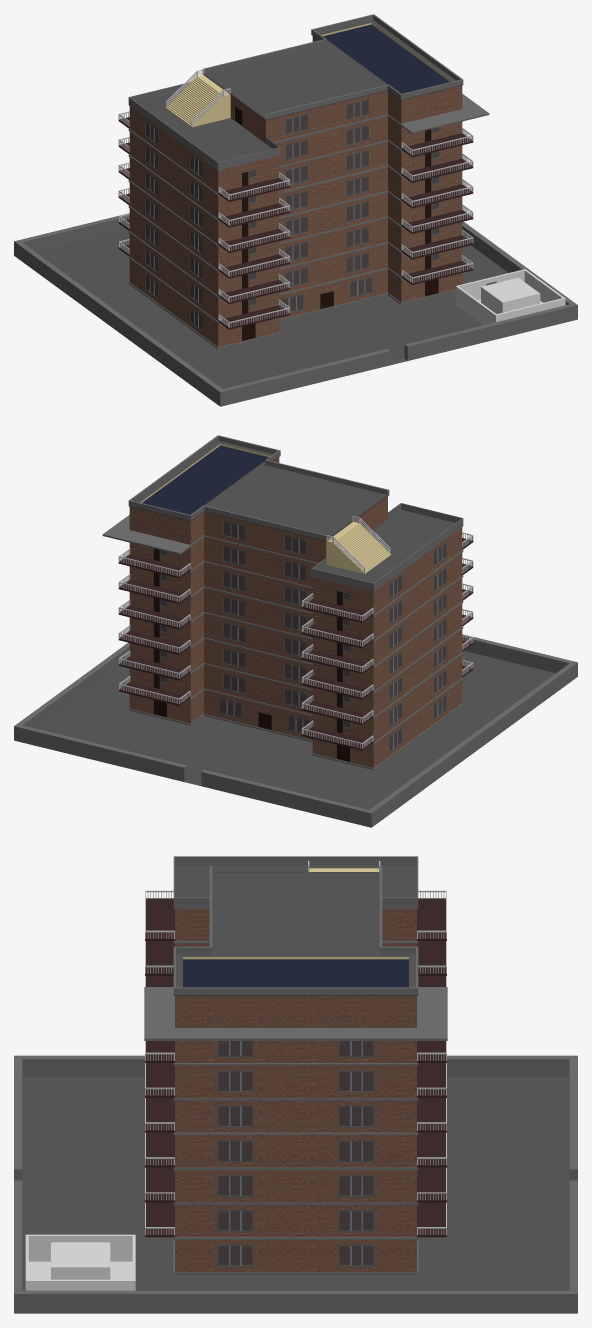
Rendered from Apartment_type_2.fbx.
The picture shows the model from 3 angles, top to bottom: view 1: azimuth 30°, elevation 25°; view 2: azimuth 150°, elevation 25°; view 3: azimuth 270°, elevation 25°; orthographic projection. The views are drawn at different scales.
Parts seen in each view (by area): view 1: building_002, Plane.001, Plane, Cube, Plane.002; view 2: building_002, Plane.001, Plane, Plane.002; view 3: building_002, Plane.001, Plane, Plane.002, Cube.
Part boxes in pixels (box(x1,y1,x2,y2)): building_002: box(118, 14, 489, 349); Plane.001: box(36, 230, 508, 388); Plane: box(14, 213, 577, 406); Cube: box(455, 269, 565, 325); Plane.002: box(323, 24, 449, 93); building_002: box(102, 435, 473, 770); Plane.001: box(36, 651, 555, 809); Plane: box(14, 634, 577, 827); Plane.002: box(142, 445, 268, 514); building_002: box(144, 856, 447, 1274); Plane.001: box(22, 1077, 569, 1290); Plane: box(14, 1055, 577, 1313); Plane.002: box(183, 959, 408, 987); Cube: box(25, 1234, 135, 1290).
Bounding box in the file's own units: 4691 × 2643 × 4691.
